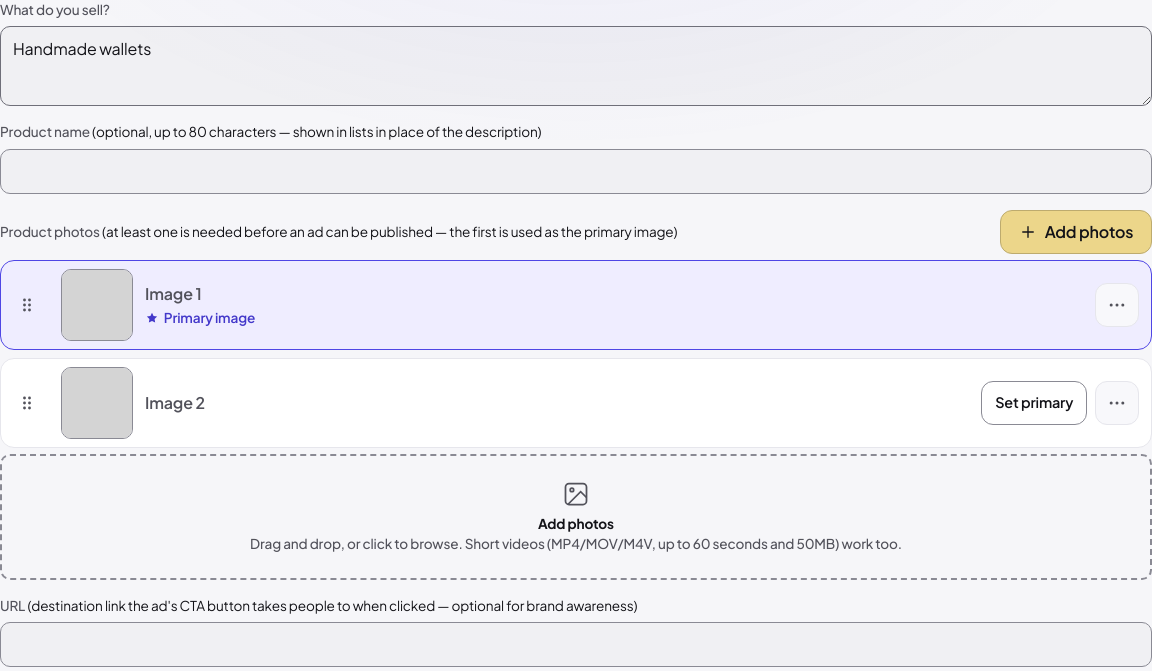
Test case: ProductForm — edit mode live photo management › shows an error if reordering fails
Expected: the number of list items is 2, [0,260,1151,350]; [0,358,1151,448]
Click the button named "More actions for Image 1" at [1117, 305], box [1095,283,1139,327]
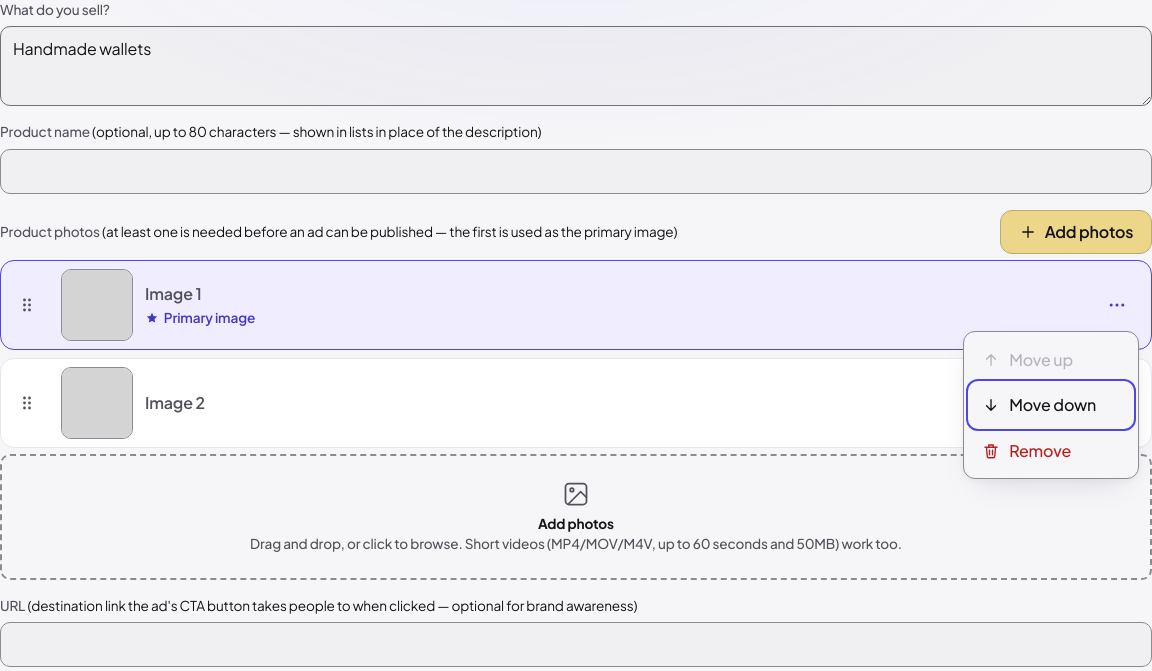
Click the menu item "Move down" at [1051, 405], box [970,383,1132,427]
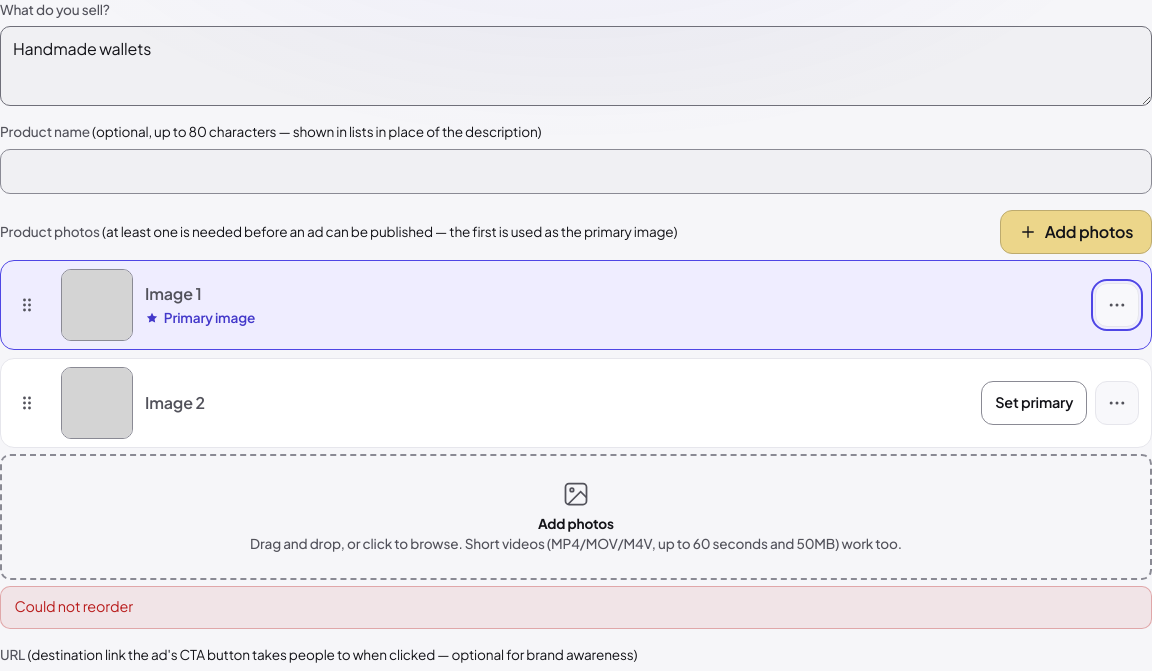
Result: the message reads "Could not reorder" at [15,597,133,615]
